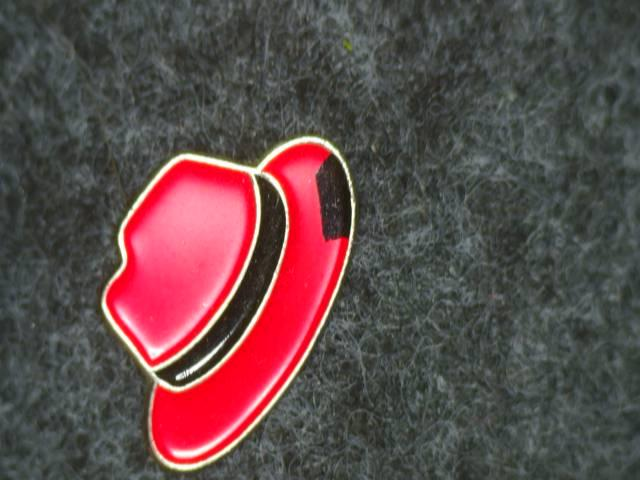Red-Hat: (79, 97, 394, 480)
Scratch: (296, 129, 382, 270)
